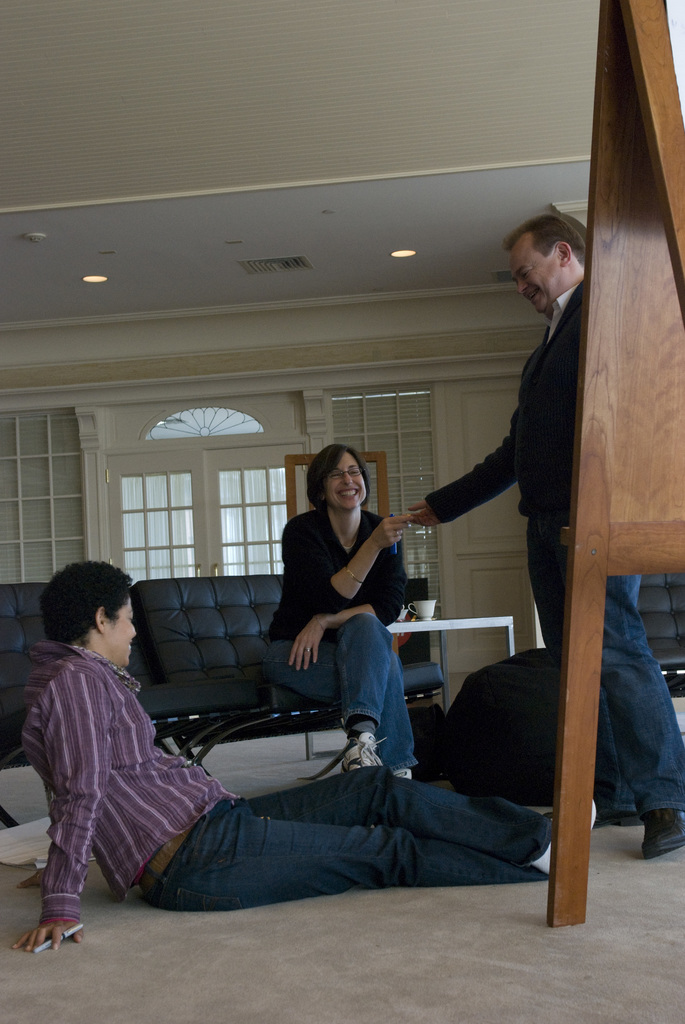Couch: (0, 570, 446, 823)
